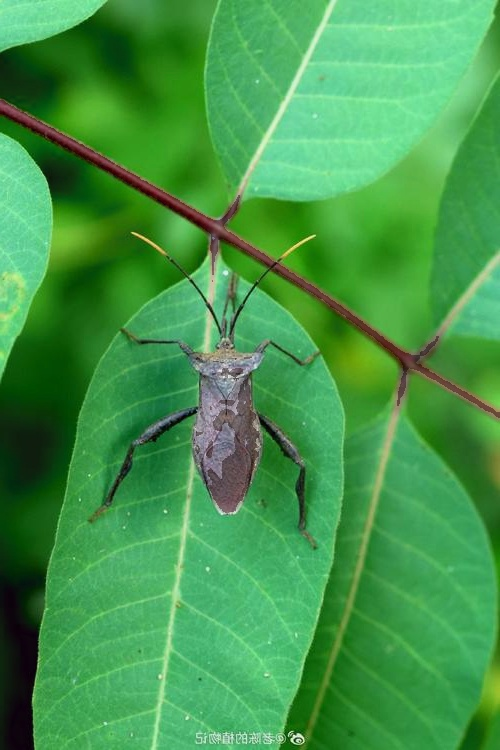Stink_Bug: (145, 241, 282, 494)
